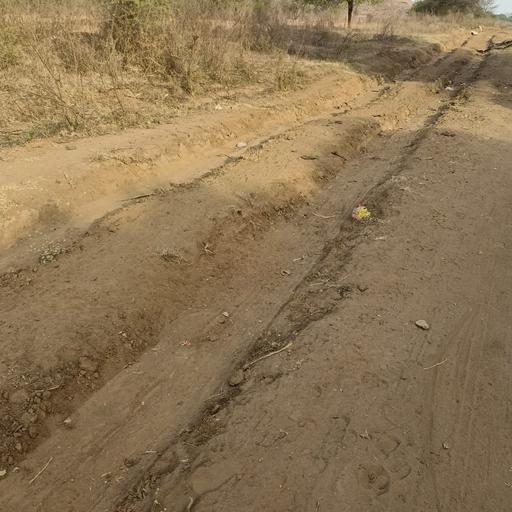vehicle_track: (0, 54, 485, 512), (0, 48, 450, 276)
